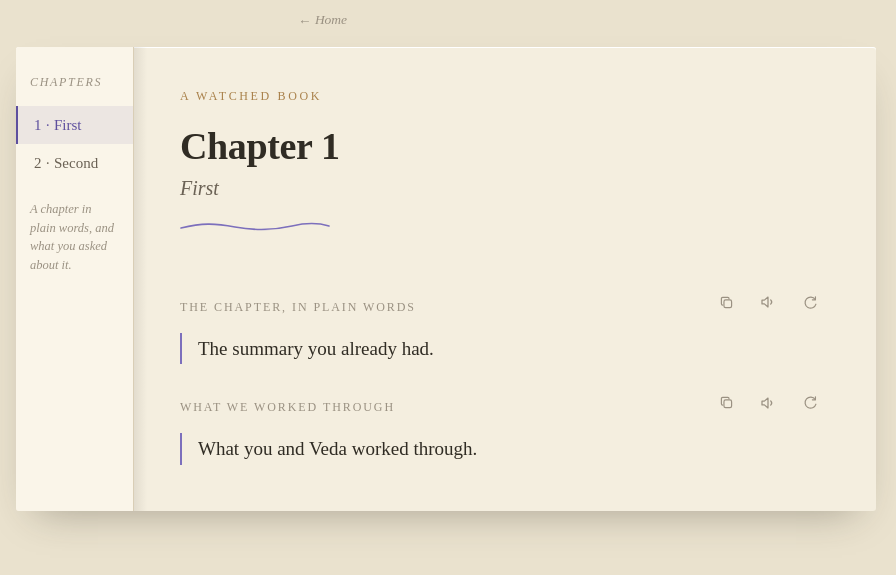
Test: watching a summary being written › shows the dots first, then the words as they arrive
Click the button named "Redo the chapter summary" at (810, 302), box [790, 282, 830, 322]
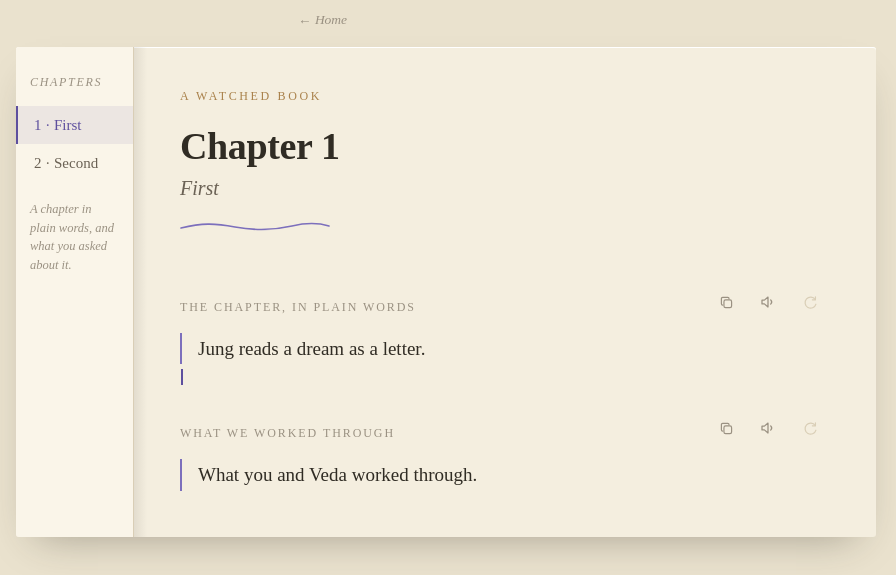
Now the element named "Veda is reading the chapter" is shown, box [180, 333, 830, 390]
Now the text "Jung reads a dream as a letter." is shown, box [198, 338, 425, 359]
